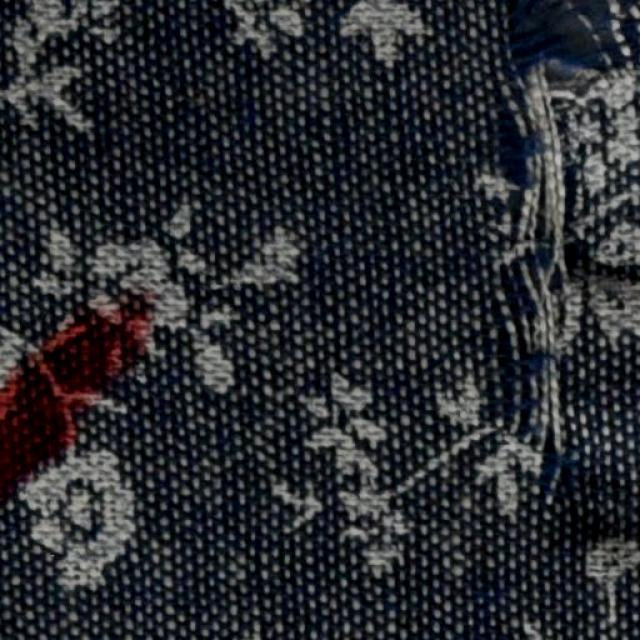Snag: (497, 8, 638, 501)
Stain: (0, 295, 155, 508)
